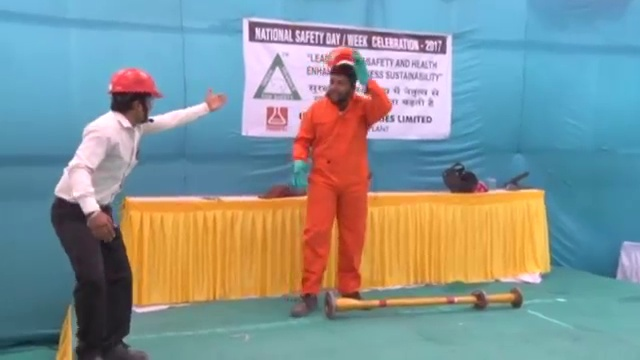helmet: (105, 64, 166, 100), (326, 47, 362, 76)
helmet_on: (104, 64, 168, 130), (323, 49, 362, 104)
person: (47, 62, 228, 360), (293, 46, 395, 312)
